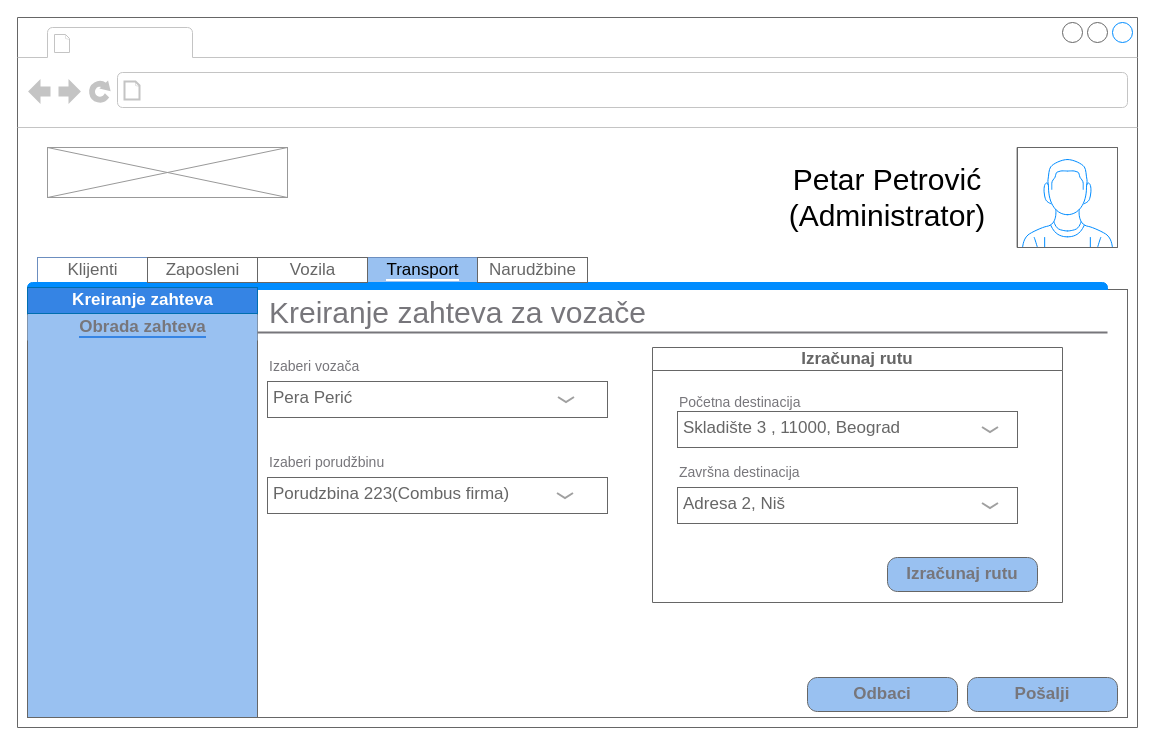
The diagram is 1155 pixels wide and 745 high, and some of its shapes have lost their labels. Here are the shapes that lost their labels. From the top down, the centre of each, then its label:
At point 132,42: "Transport šećera".
At point 372,90: "https://www.transportsecera.com/admin/klijenti".
At point 167,172: "LOGO".
